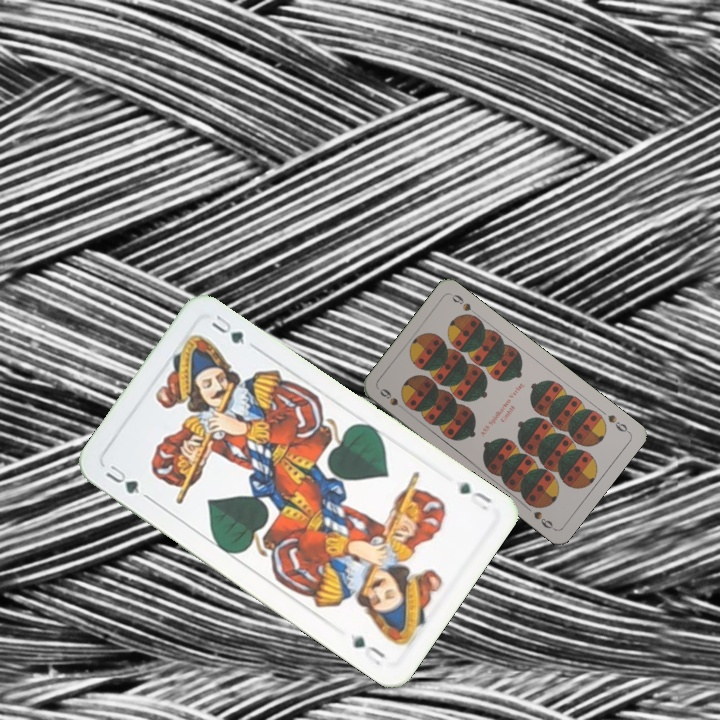GU: (101, 460, 142, 497), (455, 477, 495, 514)
S9: (376, 384, 410, 414), (603, 410, 632, 435)
